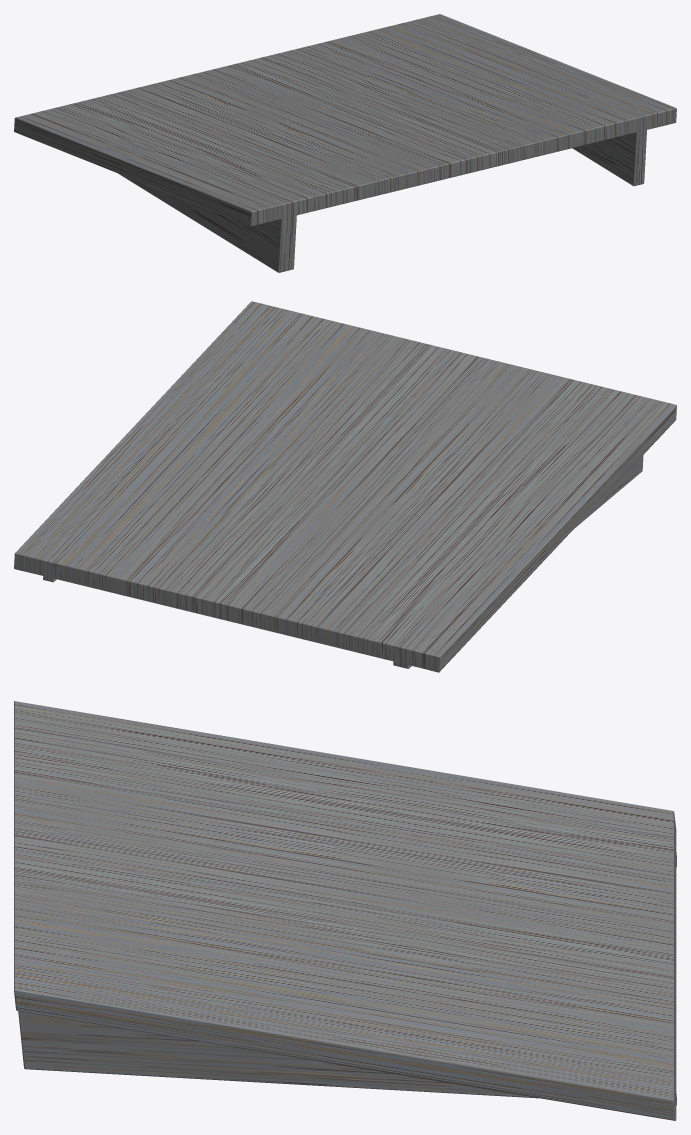
The model's file is slantedRoof.fbx.
3 renders of one model, top to bottom at view 1: azimuth 30°, elevation 25°; view 2: azimuth 150°, elevation 25°; view 3: azimuth 270°, elevation 25°, orthographic. The views are drawn at different scales.
Visible parts, largest first — view 1: pCube8; view 2: pCube8; view 3: pCube8.
Boxes of the visible parts, left/top/right/bottom form: pCube8: left=14, top=14, right=676, bottom=272; pCube8: left=14, top=301, right=676, bottom=672; pCube8: left=14, top=701, right=676, bottom=1120.
Size of the model in its own units: 28.63 by 6.3 by 27.73.
